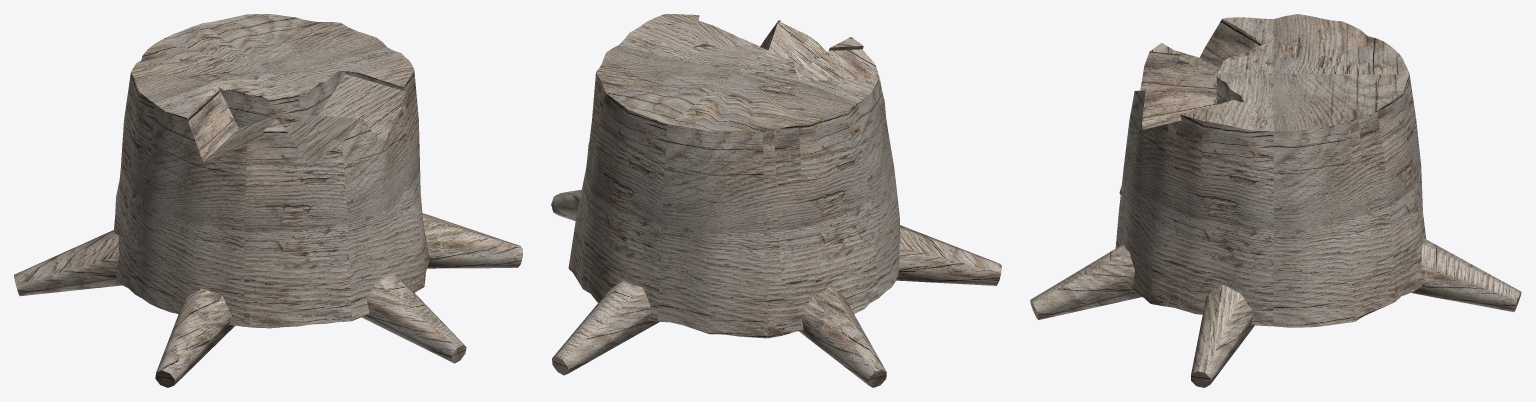
The model's file is axe-cut-stump-v01.glb.
3 views of the same model, side by side, from view 1: azimuth 30°, elevation 25°; view 2: azimuth 150°, elevation 25°; view 3: azimuth 270°, elevation 25° (orthographic). The views are drawn at different scales.
Visible parts, largest first — view 1: axe-cut-stump; view 2: axe-cut-stump; view 3: axe-cut-stump.
Boxes of the visible parts, bbox=[...] form: axe-cut-stump: bbox=[14, 14, 522, 387]; axe-cut-stump: bbox=[551, 14, 1001, 387]; axe-cut-stump: bbox=[1030, 14, 1521, 387].
Bounding box in the file's own units: 1.72 × 0.8834 × 1.79.
Materials: 1 (1 with a texture image).
